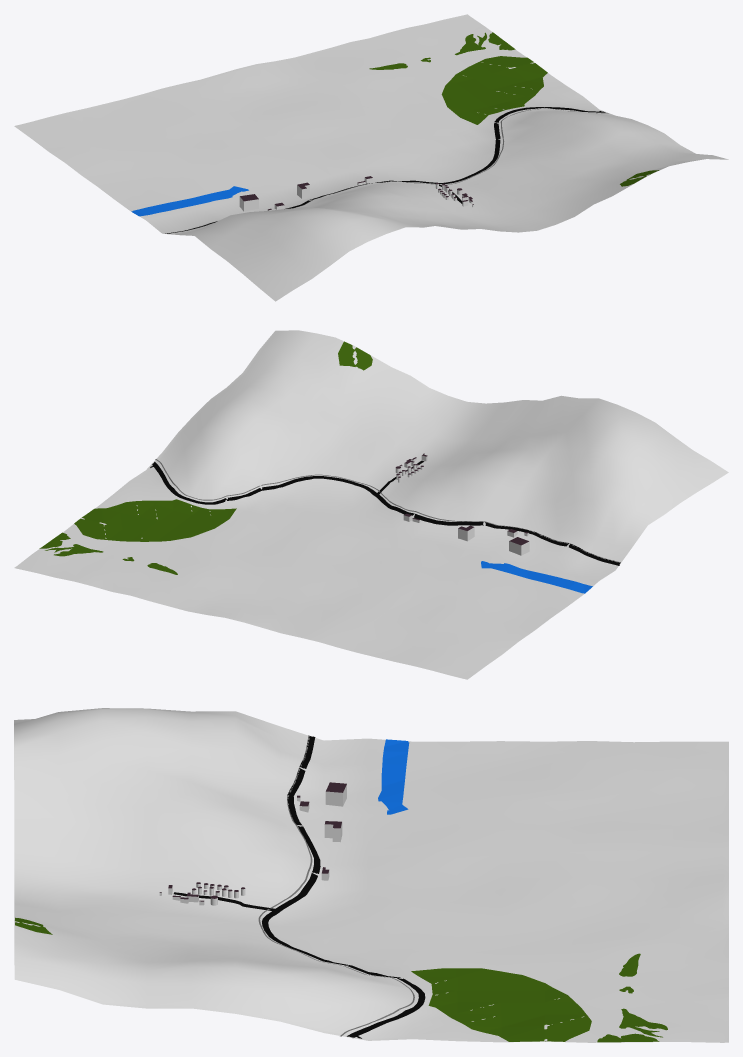
File: tile_10_0.glb
3 views of the same model, one above another, from view 1: azimuth 30°, elevation 25°; view 2: azimuth 150°, elevation 25°; view 3: azimuth 270°, elevation 25° (orthographic). The views are drawn at different scales.
Visible parts, largest first — view 1: terrain_10_0, ulaanbaatar.osm_forest_mesh_10_0, ulaanbaatar.osm_buildings_10_0, ulaanbaatar.osm_water_mesh_10_0, ulaanbaatar.osm_roads_primary_mesh_10_0; view 2: terrain_10_0, ulaanbaatar.osm_forest_mesh_10_0, ulaanbaatar.osm_roads_primary_mesh_10_0, ulaanbaatar.osm_buildings_10_0, ulaanbaatar.osm_water_mesh_10_0, ulaanbaatar.osm_paths_cycleway_mesh_10_0; view 3: terrain_10_0, ulaanbaatar.osm_forest_mesh_10_0, ulaanbaatar.osm_roads_primary_mesh_10_0, ulaanbaatar.osm_buildings_10_0, ulaanbaatar.osm_water_mesh_10_0, ulaanbaatar.osm_paths_cycleway_mesh_10_0.
Part boxes in pixels (box(x1,y1,x2,y2)): terrain_10_0: box(14, 14, 728, 301); ulaanbaatar.osm_forest_mesh_10_0: box(369, 32, 659, 186); ulaanbaatar.osm_buildings_10_0: box(239, 176, 474, 211); ulaanbaatar.osm_water_mesh_10_0: box(131, 186, 248, 216); ulaanbaatar.osm_roads_primary_mesh_10_0: box(165, 107, 605, 233); terrain_10_0: box(14, 330, 728, 679); ulaanbaatar.osm_forest_mesh_10_0: box(39, 341, 372, 574); ulaanbaatar.osm_roads_primary_mesh_10_0: box(152, 462, 620, 565); ulaanbaatar.osm_buildings_10_0: box(395, 453, 529, 555); ulaanbaatar.osm_water_mesh_10_0: box(481, 561, 592, 593); ulaanbaatar.osm_paths_cycleway_mesh_10_0: box(155, 459, 619, 562); terrain_10_0: box(14, 708, 728, 1042); ulaanbaatar.osm_forest_mesh_10_0: box(15, 917, 667, 1042); ulaanbaatar.osm_roads_primary_mesh_10_0: box(262, 735, 425, 1037); ulaanbaatar.osm_buildings_10_0: box(159, 782, 346, 905); ulaanbaatar.osm_water_mesh_10_0: box(378, 739, 409, 814); ulaanbaatar.osm_paths_cycleway_mesh_10_0: box(258, 736, 414, 1036).
Size of the model in its own units: 1003 by 129 by 999.
